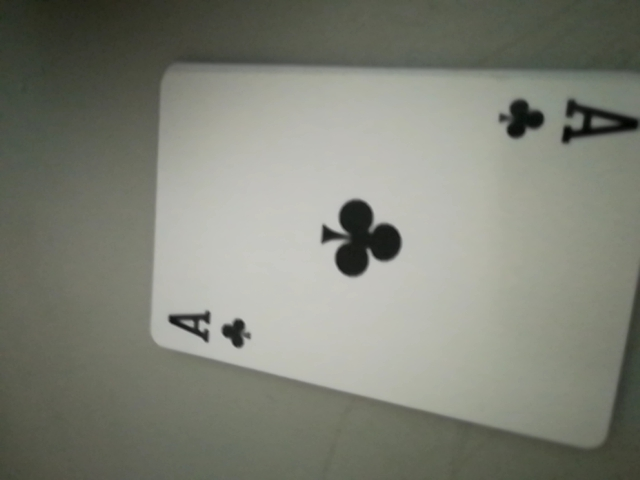mh a: (495, 87, 640, 160), (161, 299, 263, 354)
